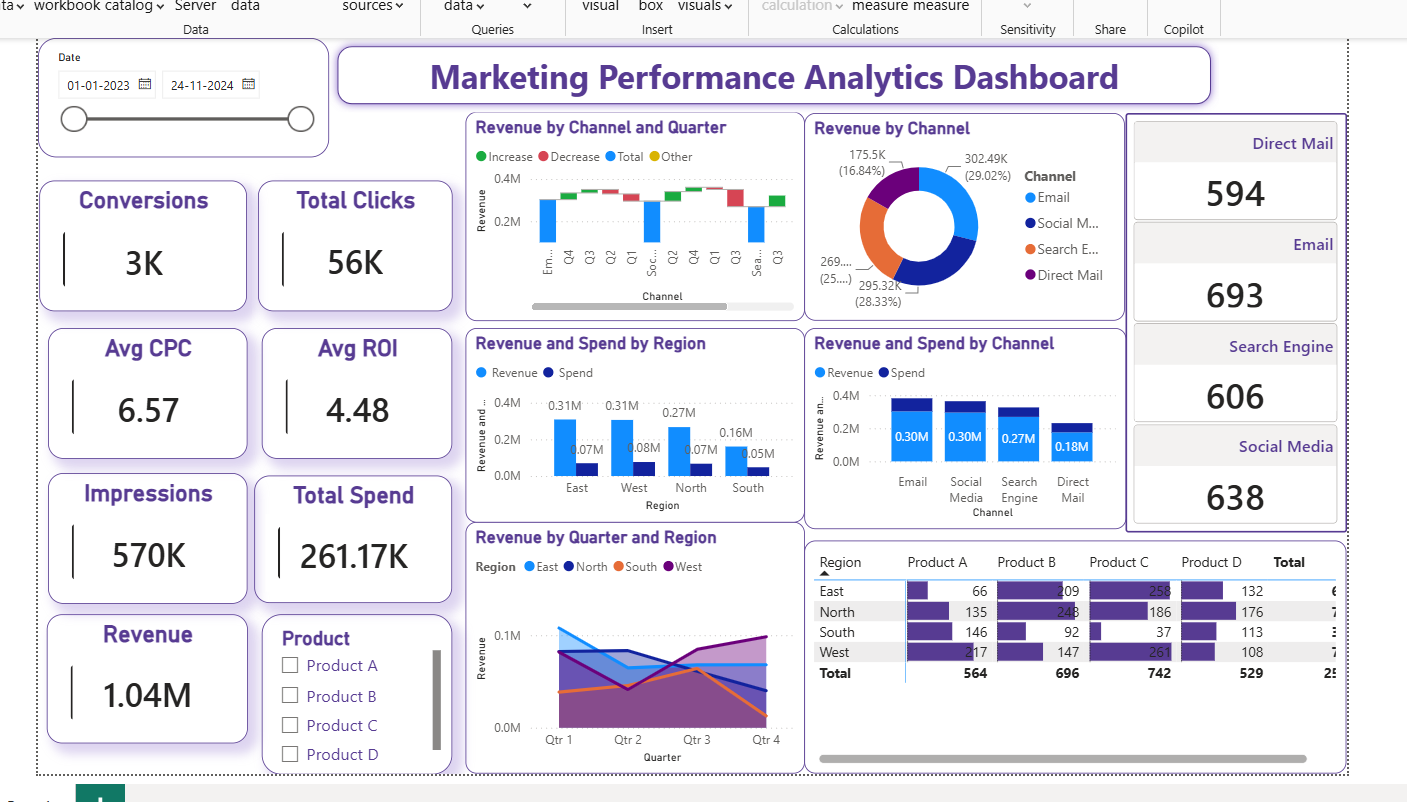

This screenshot's page, from the dashboard's own definition file:
{"tool":"powerbi","page":{"name":"Page 1","canvas":[1280,720],"ordinal":0},"visuals":[{"type":"cardVisual","title":"Total Clicks","fields":{"Data":["Sum(Sheet1.Clicks)"]},"box":[215,140,190,128.3],"z":0},{"type":"cardVisual","title":"Conversions","fields":{"Data":["Sum(Sheet1.Conversions)"]},"box":[1.7,140,203.3,128.3],"z":1000},{"type":"cardVisual","title":"Avg CPC","fields":{"Data":["Avg(Sheet1.CPC)"]},"box":[10,283.3,195,128.3],"z":2000},{"type":"cardVisual","title":"Revenue","fields":{"Data":["Sum(Sheet1.Revenue)"]},"box":[8.3,563.3,196.7,126.7],"z":3000},{"type":"cardVisual","title":"Impressions","fields":{"Data":["Sum(Sheet1.Impressions)"]},"box":[10,425,195,128.3],"z":4000},{"type":"cardVisual","title":"Total Spend","fields":{"Data":["Sum(Sheet1.Spend)"]},"box":[211.7,428.3,193.3,125],"z":5000},{"type":"waterfallChart","fields":{"Category":["Sheet1.Channel"],"Breakdown":["Sheet1.Quarter"],"Y":["Sum(Sheet1.Revenue)"]},"box":[418.3,71.7,331.7,205],"z":6000},{"type":"donutChart","fields":{"Y":["Sum(Sheet1.Revenue)"],"Category":["Sheet1.Marketing_Channel"]},"box":[750,73.3,313.3,203.3],"z":7000},{"type":"columnChart","fields":{"Category":["Sheet1.Marketing_Channel"],"Y":["Sum(Sheet1.Revenue)","Sum(Sheet1.Spend)"]},"box":[750,283.3,315,196.7],"z":8000},{"type":"areaChart","fields":{"Category":["Sheet1.Date.Variation.Date Hierarchy.Quarter"],"Y":["Sum(Sheet1.Revenue)"],"Series":["Sheet1.Region"]},"box":[418.3,473.3,331.7,246.7],"z":9000},{"type":"cardVisual","fields":{"Rows":["Sheet1.Marketing_Channel"],"Data":["Sum(Sheet1.Conversions)"]},"box":[1063.3,73.3,216.7,410],"z":10000},{"type":"pivotTable","fields":{"Values":["Sum(Sheet1.Conversions)"],"Rows":["Sheet1.Region"],"Columns":["Sheet1.Product"]},"box":[750,491.7,530,228.3],"z":11000},{"type":"slicer","fields":{"Values":["Sheet1.Product"]},"box":[218.3,563.3,186.7,156.7],"z":12000},{"type":"shape","title":"Marketing Performance Analytics Dashboard","box":[284.5,0,870.6,72.7],"z":13000},{"type":"slicer","fields":{"Values":["Sheet1.Date"]},"box":[0,0,285,116.7],"z":14000},{"type":"cardVisual","title":"Avg ROI","fields":{"Data":["Avg(Sheet1.ROI)"]},"box":[218.3,283.3,186.7,128.3],"z":15000},{"type":"clusteredColumnChart","fields":{"Y":["Sum(Sheet1.Revenue)","Sum(Sheet1.Spend)"],"Category":["Sheet1.Region"]},"box":[418.3,283.3,331.7,190],"z":17000}]}

Visuals, with their boxes on the page's 1280x720 design canvas (x1, y1, x2, y2). These are canvas units, not pixel positions in the 1407x802 screenshot, which may show the page scaled, cropped or inside an application window:
"Total Clicks" cardVisual: {"x1": 215, "y1": 140, "x2": 405, "y2": 268}
"Conversions" cardVisual: {"x1": 2, "y1": 140, "x2": 205, "y2": 268}
"Avg CPC" cardVisual: {"x1": 10, "y1": 283, "x2": 205, "y2": 412}
"Revenue" cardVisual: {"x1": 8, "y1": 563, "x2": 205, "y2": 690}
"Impressions" cardVisual: {"x1": 10, "y1": 425, "x2": 205, "y2": 553}
"Total Spend" cardVisual: {"x1": 212, "y1": 428, "x2": 405, "y2": 553}
waterfallChart - Sheet1.Channel x Sheet1.Quarter: {"x1": 418, "y1": 72, "x2": 750, "y2": 277}
donutChart - Sum(Sheet1.Revenue) x Sheet1.Marketing_Channel: {"x1": 750, "y1": 73, "x2": 1063, "y2": 277}
columnChart - Sheet1.Marketing_Channel x Sum(Sheet1.Revenue): {"x1": 750, "y1": 283, "x2": 1065, "y2": 480}
areaChart - Sheet1.Date.Variation.Date Hierarchy.Quarter x Sum(Sheet1.Revenue): {"x1": 418, "y1": 473, "x2": 750, "y2": 720}
cardVisual - Sheet1.Marketing_Channel x Sum(Sheet1.Conversions): {"x1": 1063, "y1": 73, "x2": 1280, "y2": 483}
pivotTable - Sum(Sheet1.Conversions) x Sheet1.Region: {"x1": 750, "y1": 492, "x2": 1280, "y2": 720}
slicer - Sheet1.Product: {"x1": 218, "y1": 563, "x2": 405, "y2": 720}
"Marketing Performance Analytics Dashboard" shape: {"x1": 284, "y1": 0, "x2": 1155, "y2": 73}
slicer - Sheet1.Date: {"x1": 0, "y1": 0, "x2": 285, "y2": 117}
"Avg ROI" cardVisual: {"x1": 218, "y1": 283, "x2": 405, "y2": 412}
clusteredColumnChart - Sum(Sheet1.Revenue) x Sum(Sheet1.Spend): {"x1": 418, "y1": 283, "x2": 750, "y2": 473}
